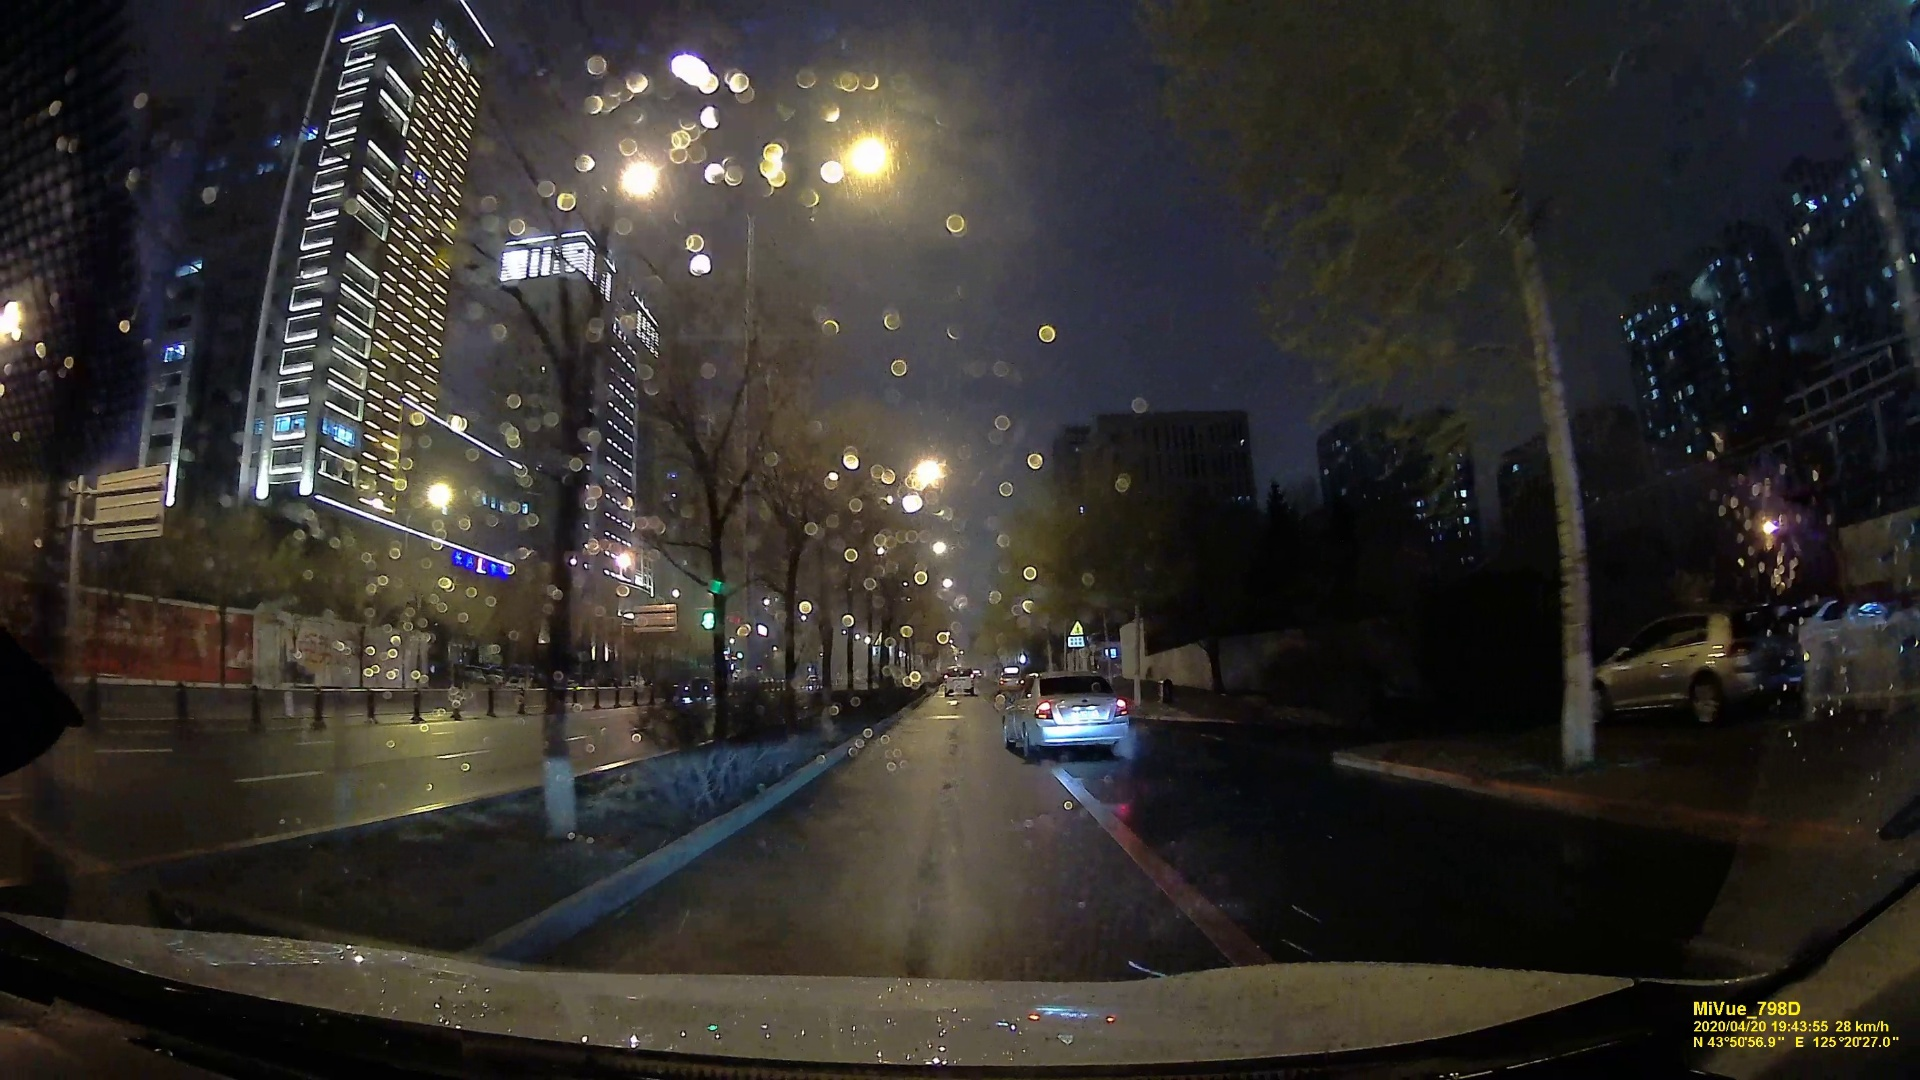traffic_sign: (1065, 621, 1089, 647)
vehicle: (997, 673, 1133, 760), (942, 669, 973, 696)
